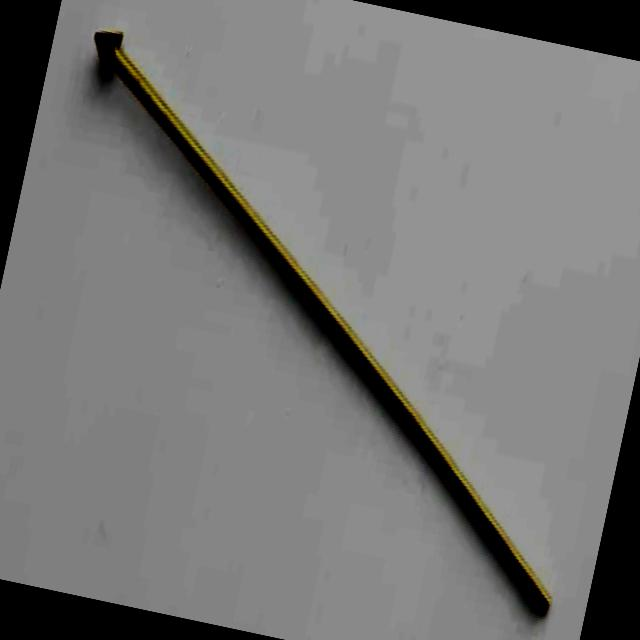spear: (0, 1, 640, 638)
